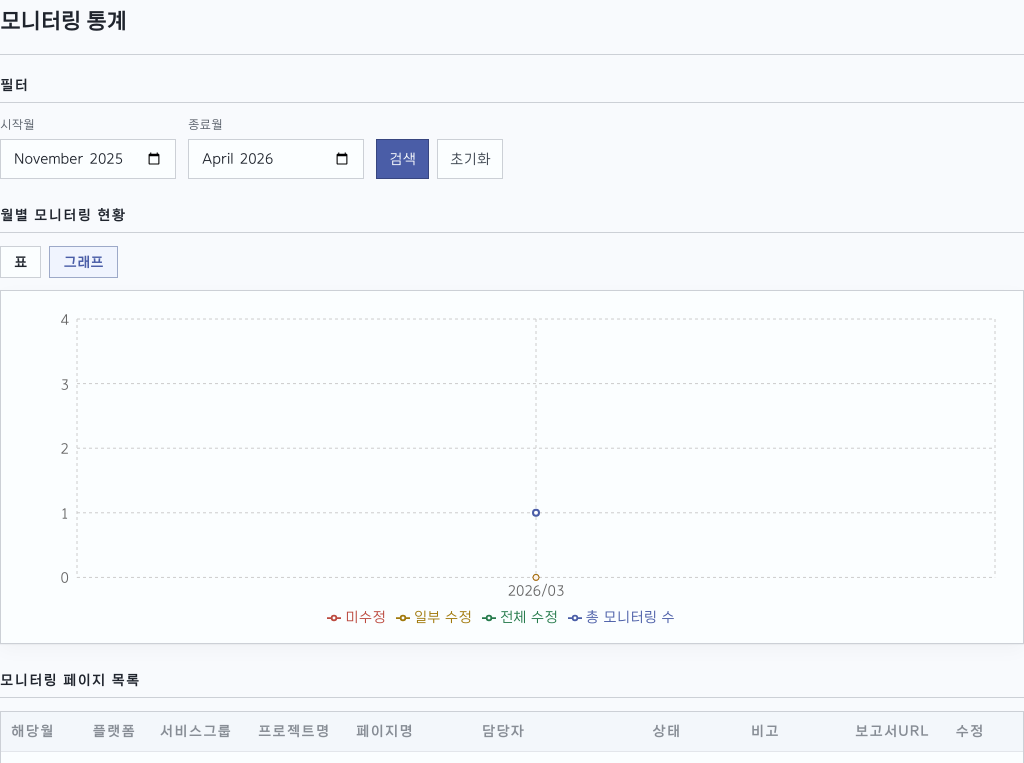
Test: Stats pages › applies the monitoring period only after search is clicked
Expected: the field named "모니터링 종료월" holds "2026-04", [188,139,364,179]
Replace the text in the field named "모니터링 시작월" with "2025-07". click: (88, 159)
box: [0,139,176,179]
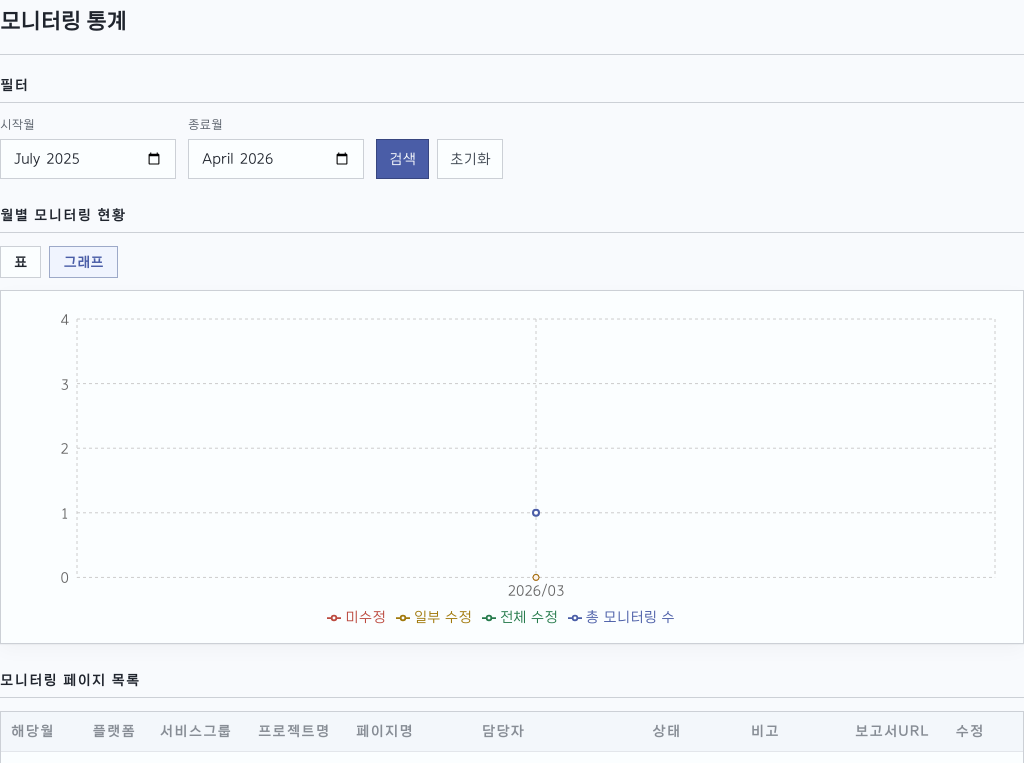
Replace the text in the field named "모니터링 종료월" with "2025-07". click: (276, 159)
box: [188,139,364,179]
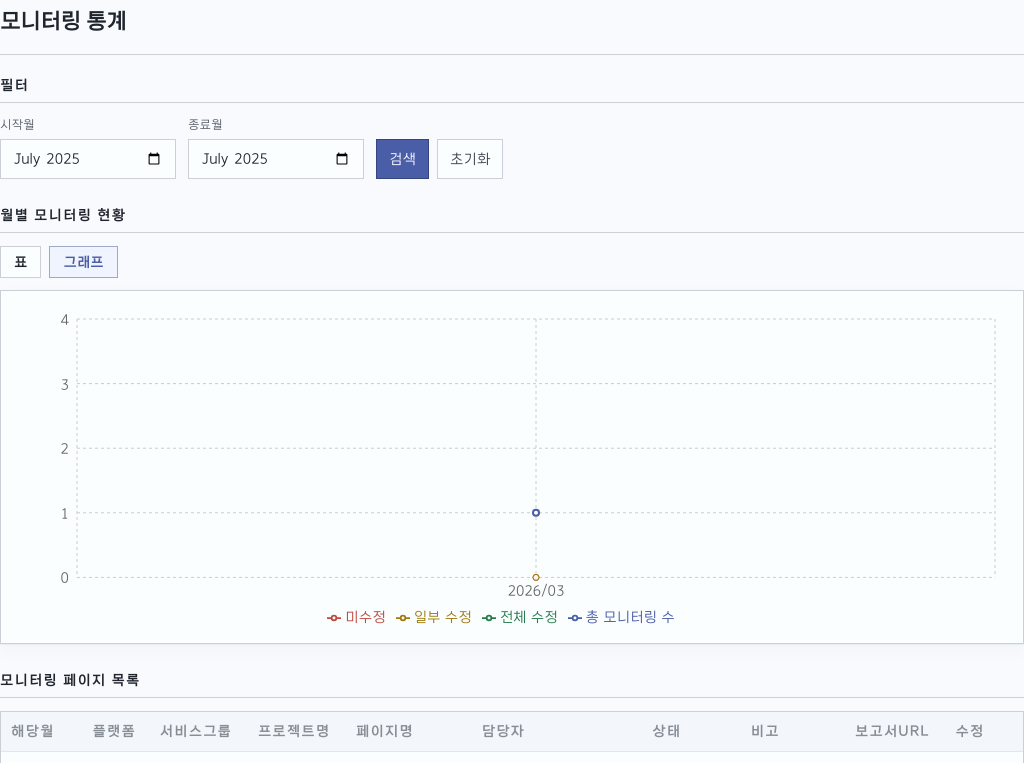
Expected: the text "과거 모니터링 페이지" is not shown
Click the button "검색". click: (402, 159)
box: [376,139,429,179]
(page scrolled)
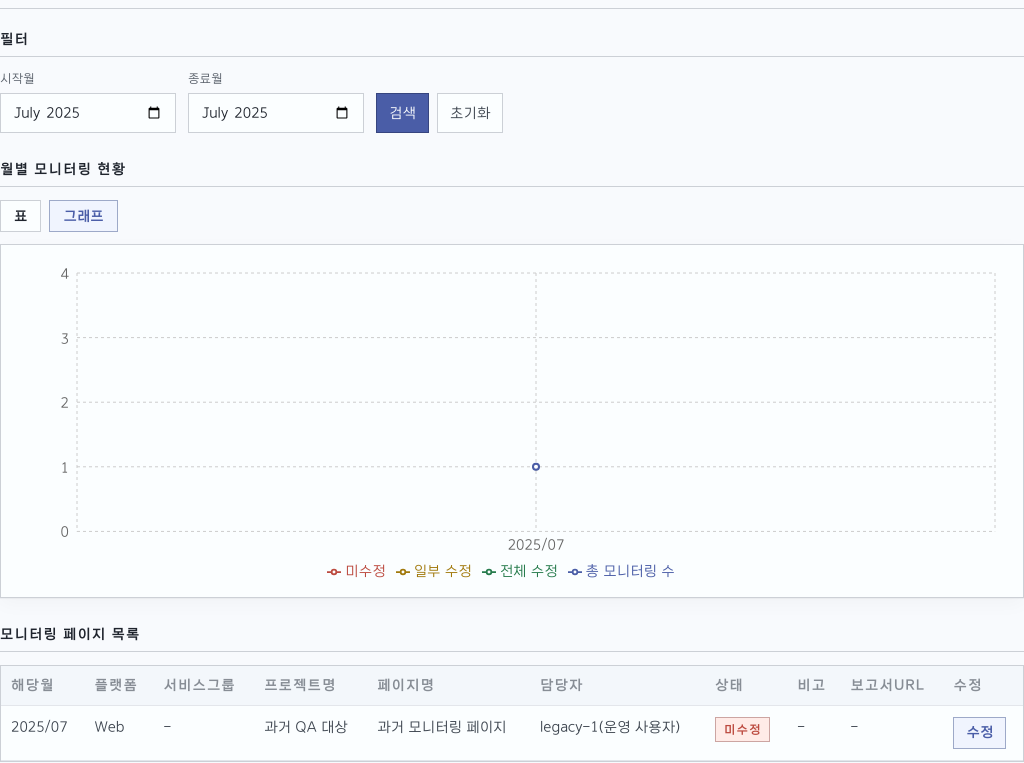
Expected: the text "과거 모니터링 페이지" is shown, [367,706,530,760]
